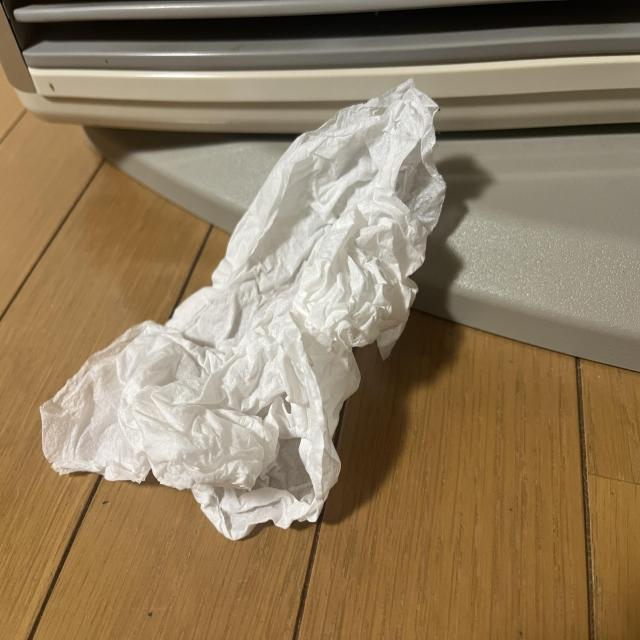Paper: (32, 82, 444, 546)
